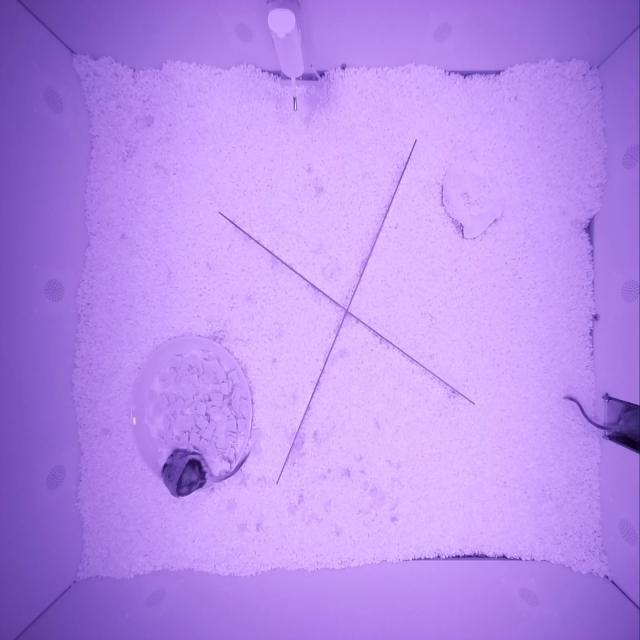adult_back: (160, 450, 209, 498)
adult_front: (619, 409, 640, 443)
